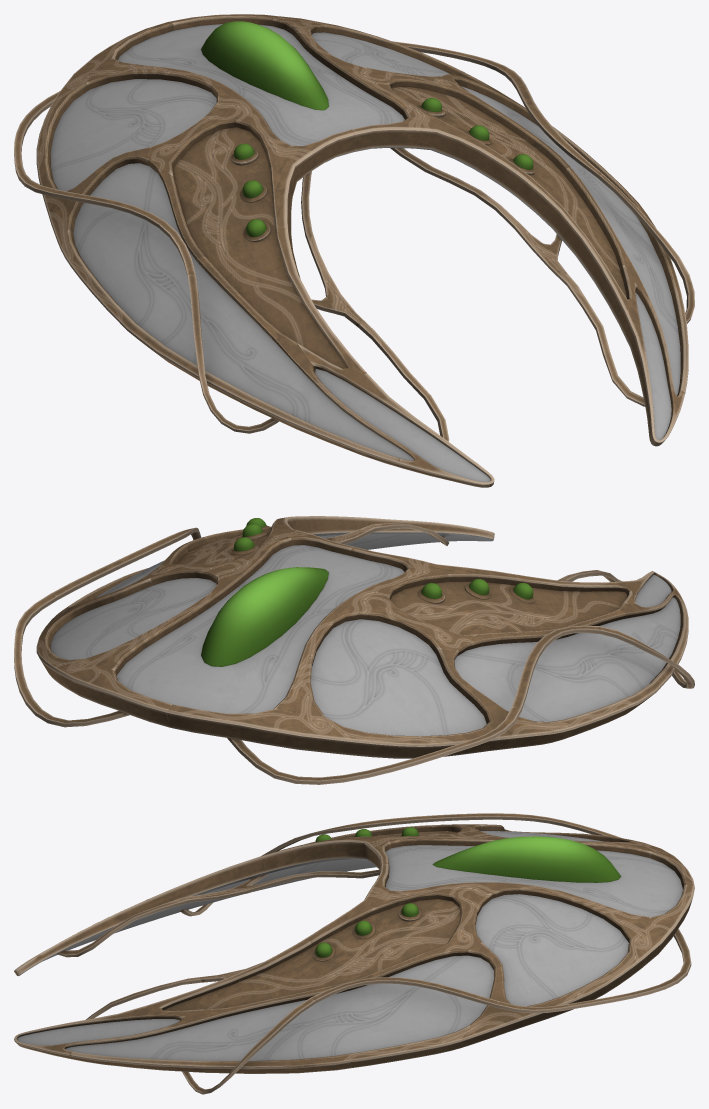
The model's file is Alien_spacecraft_04_FBX_.glb.
3 renders of one model, top to bottom at view 1: azimuth 30°, elevation 25°; view 2: azimuth 150°, elevation 25°; view 3: azimuth 270°, elevation 25°, orthographic. The views are drawn at different scales.
Visible parts, largest first — view 1: Alien_spacecraft_04_poly; view 2: Alien_spacecraft_04_poly; view 3: Alien_spacecraft_04_poly.
Boxes of the visible parts, x1=… form: Alien_spacecraft_04_poly: x1=14, y1=14, x2=694, y2=487; Alien_spacecraft_04_poly: x1=14, y1=516, x2=694, y2=784; Alien_spacecraft_04_poly: x1=14, y1=813, x2=694, y2=1094.
Bounding box in the file's own units: 0.6922 × 0.2648 × 0.9552.
Materials: 1 (1 with a texture image).
